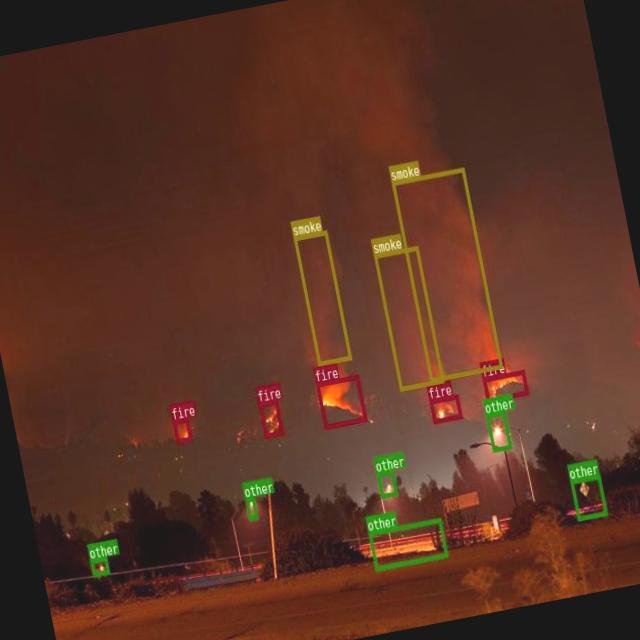fire: (316, 374, 366, 429), (482, 369, 528, 402), (258, 398, 284, 438), (429, 394, 461, 424), (172, 417, 192, 443)
smoke: (391, 166, 502, 382), (374, 246, 444, 390), (294, 230, 352, 364)
